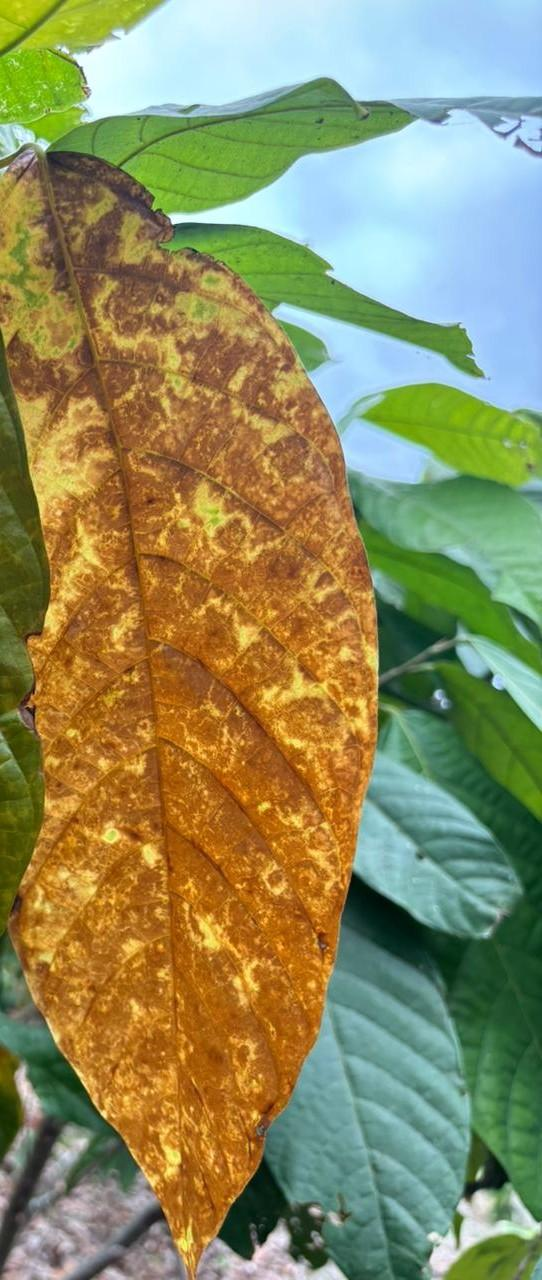deficienciia_fosforo: (0, 148, 375, 1279)
